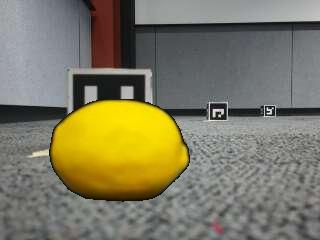lemon: (50, 102, 188, 201)
